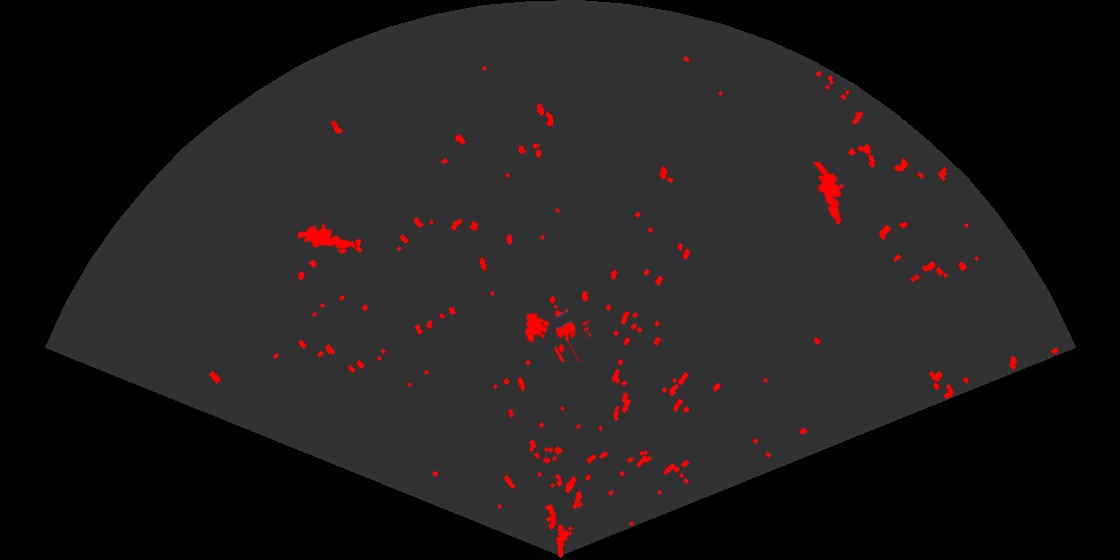cage: (523, 303, 589, 362)
frogman: (812, 162, 845, 226), (298, 222, 357, 250)
